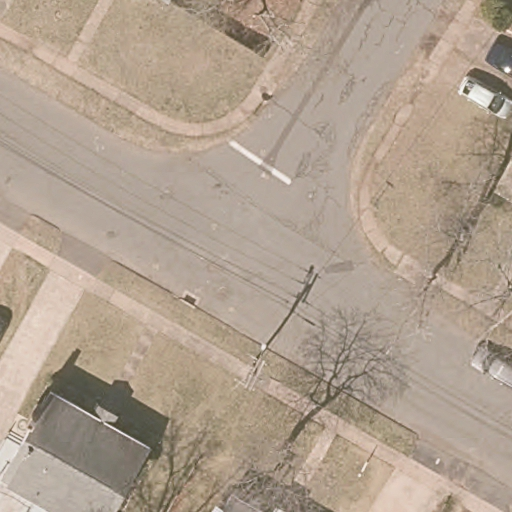DT: (233, 343, 270, 392)
